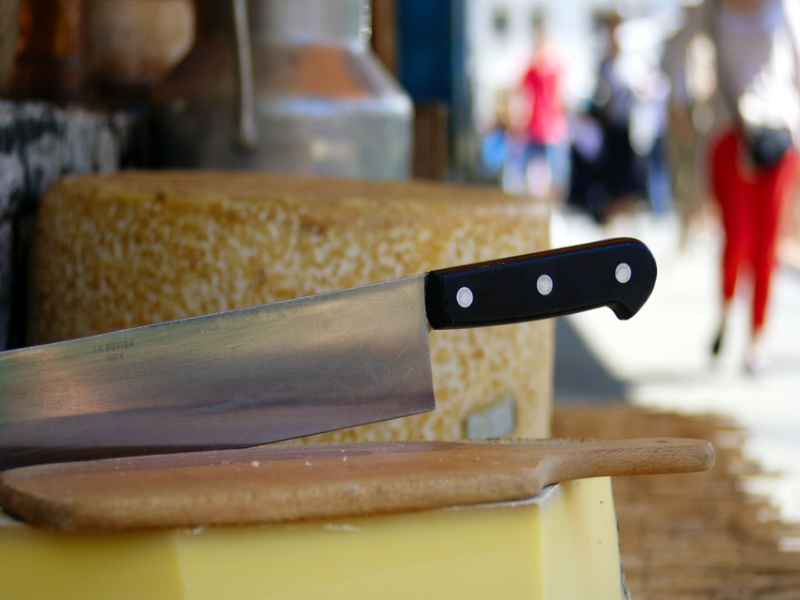knife: (1, 233, 667, 468)
